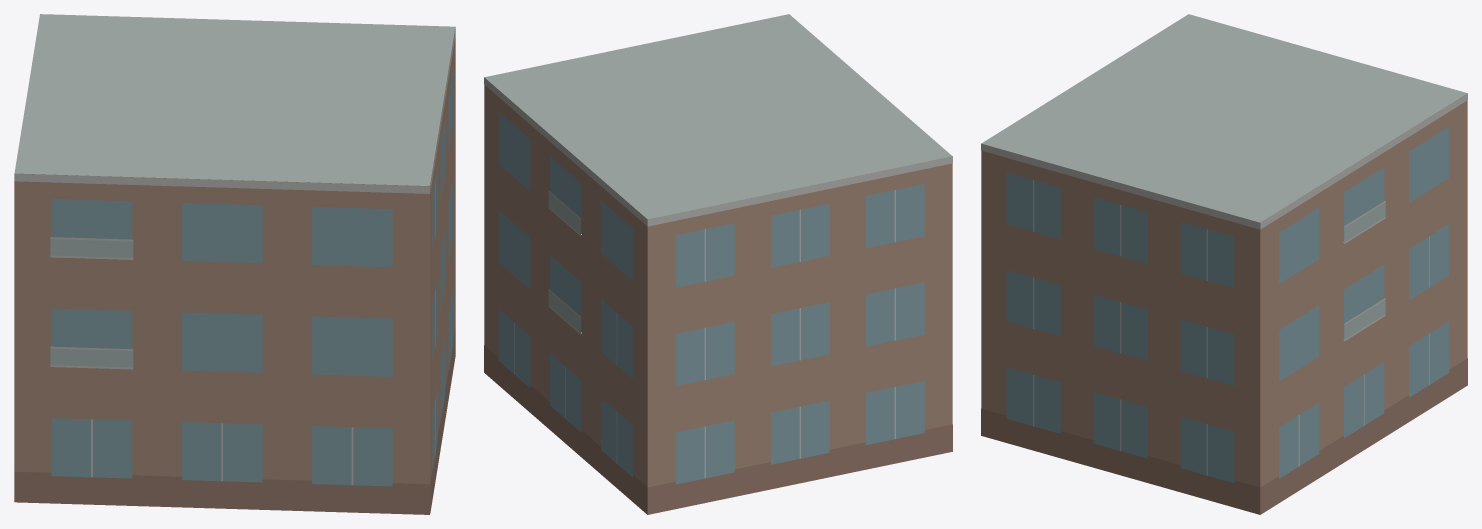
The model's file is survey-upis-32719006.glb.
The picture shows the model from 3 angles, left to right: view 1: azimuth 30°, elevation 25°; view 2: azimuth 150°, elevation 25°; view 3: azimuth 270°, elevation 25°; orthographic projection. The views are drawn at different scales.
Visible parts, largest first — view 1: survey-upis-32719006.tmp; view 2: survey-upis-32719006.tmp; view 3: survey-upis-32719006.tmp.
Boxes of the visible parts, <box> form: survey-upis-32719006.tmp: <box>14,14,455,514</box>; survey-upis-32719006.tmp: <box>484,14,952,514</box>; survey-upis-32719006.tmp: <box>981,14,1467,514</box>.
Bounding box in the file's own units: 15.64 × 10.2 × 15.4.
